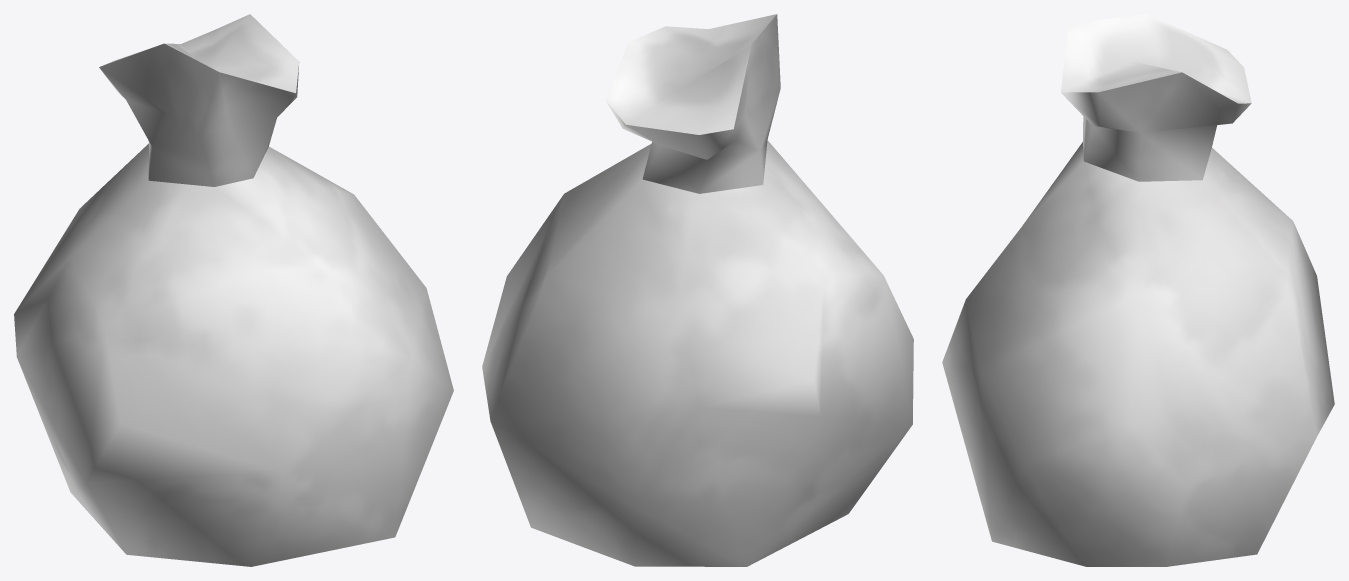
File: Pfb_Bags__5.fbx
The picture shows the model from 3 angles, left to right: view 1: azimuth 30°, elevation 25°; view 2: azimuth 150°, elevation 25°; view 3: azimuth 270°, elevation 25°; orthographic projection. The views are drawn at different scales.
Parts seen in each view (by area): view 1: Mat_Bags_01_1; view 2: Mat_Bags_01_1; view 3: Mat_Bags_01_1.
Boxes of the visible parts, x1,y1,x2,y2 form: Mat_Bags_01_1: (14,14,453,566); Mat_Bags_01_1: (482,14,913,566); Mat_Bags_01_1: (942,14,1334,566).
Size of the model in its own units: 0.6104 by 0.7537 by 0.5764.
1 material, 1 textured.
